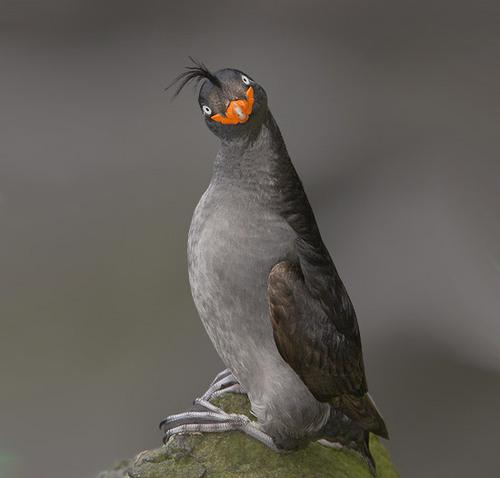005.Crested_Auklet: (156, 56, 389, 469)
